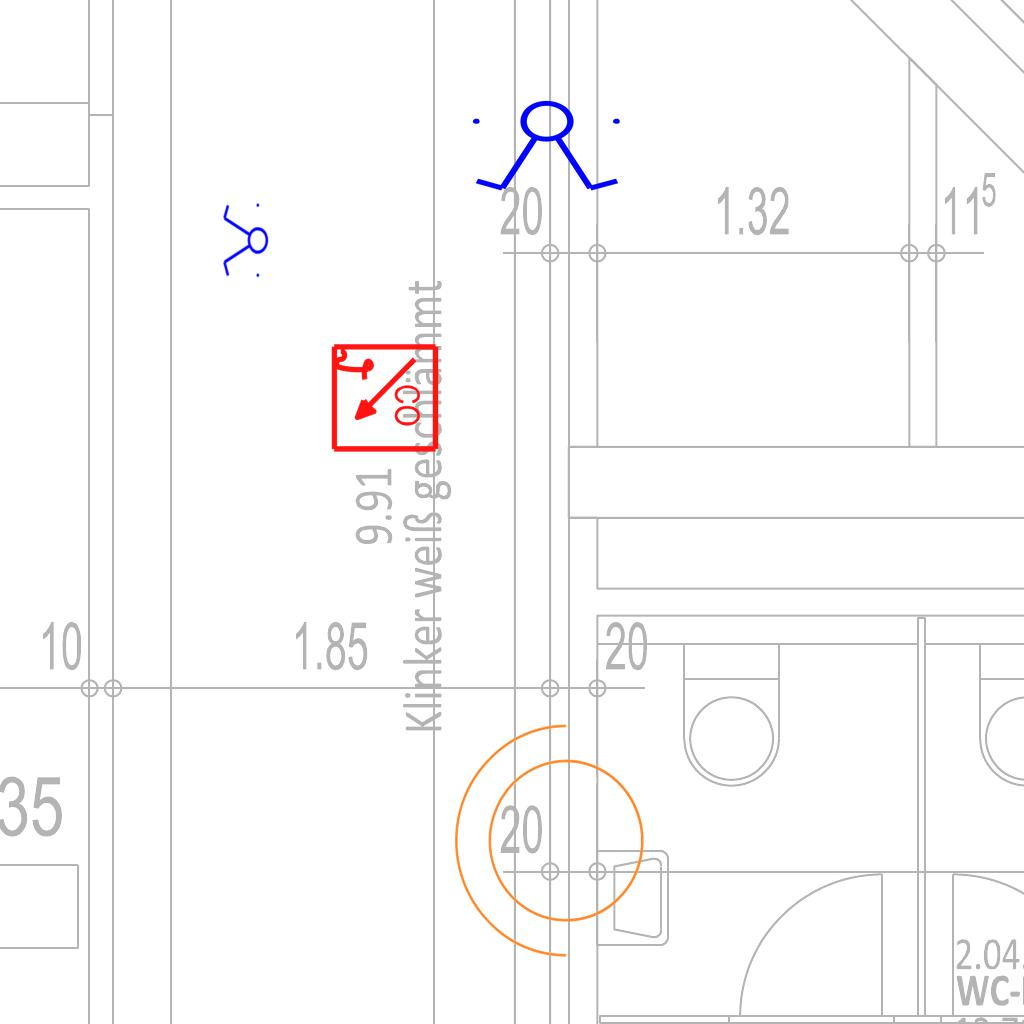ROA_Rauchmelder_optisch_mit_Signalgeber_(Sockelsirene): (327, 342, 440, 455)
Scheinwerfer_fuer_Alarmbeleuchtung: (444, 715, 669, 979)
Serienschalter: (464, 99, 632, 195), (221, 199, 269, 283)
